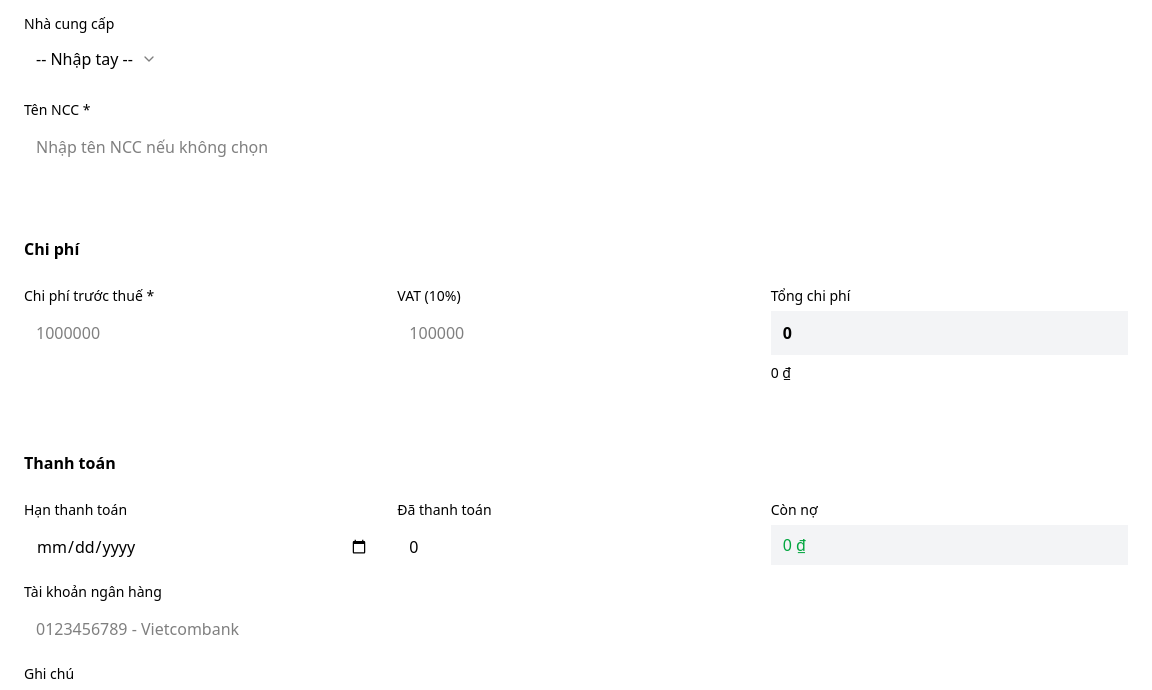
Scenario: OperatorForm › Cost Calculation › formats currency in VND format
(page scrolled)
Type "5000000" into the number field labelled "Chi phí trước thuế *" at (203, 333), box [24,311,381,355]
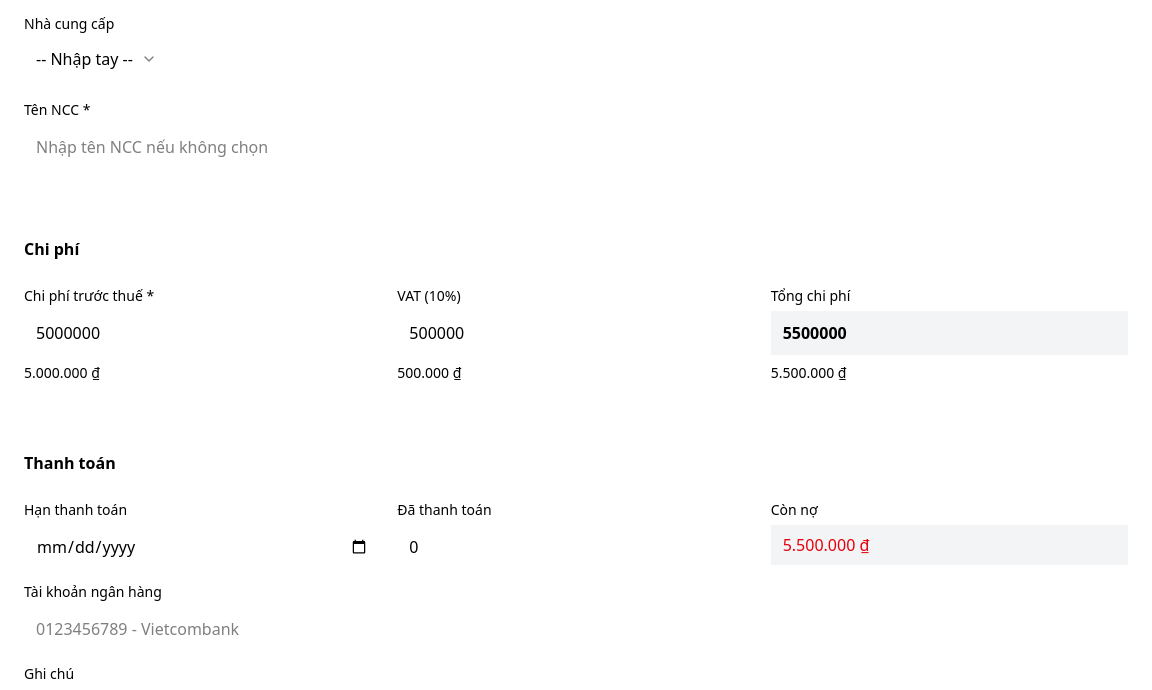
Expected: the text "5.000.000 ₫" is shown, [24,363,100,382]
